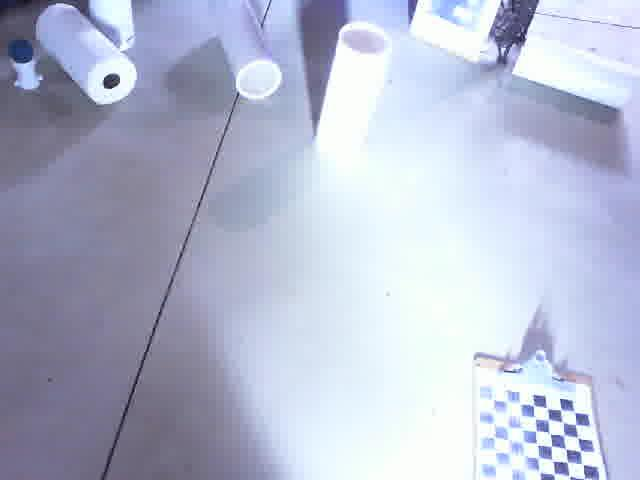coral: (311, 17, 397, 160), (512, 30, 640, 115), (211, 0, 284, 101)
